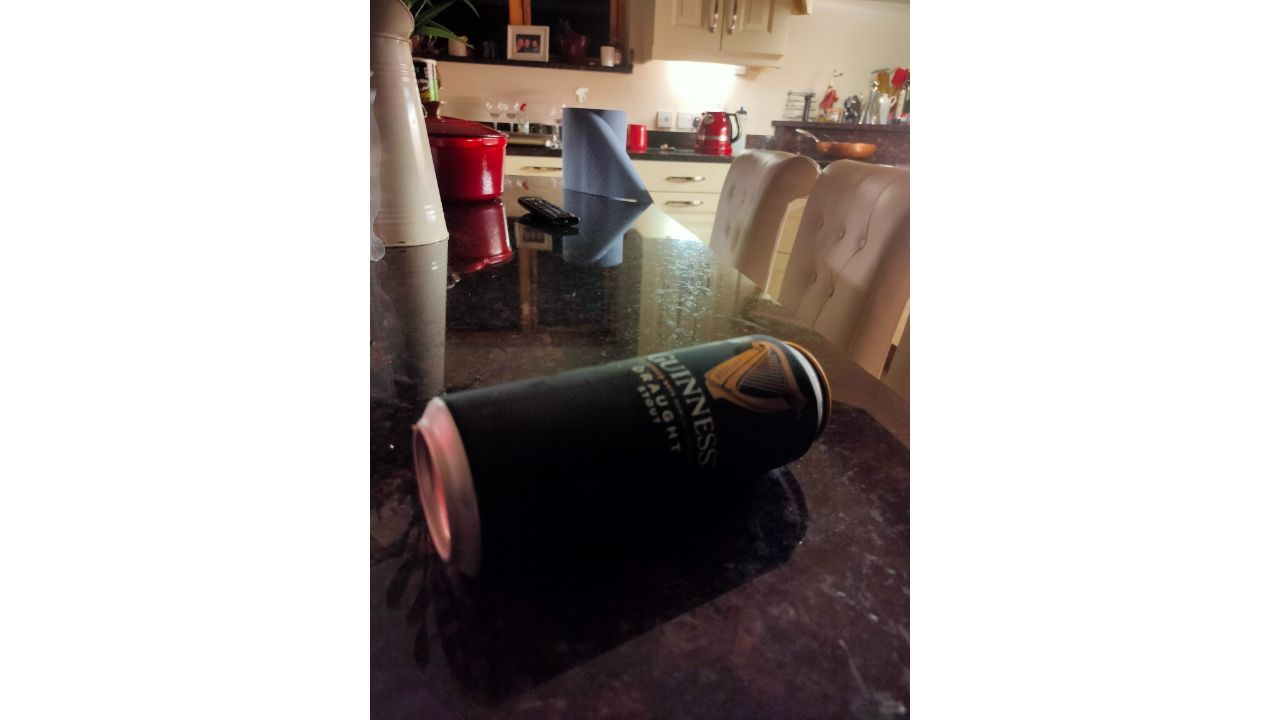Can: (414, 338, 828, 567)
